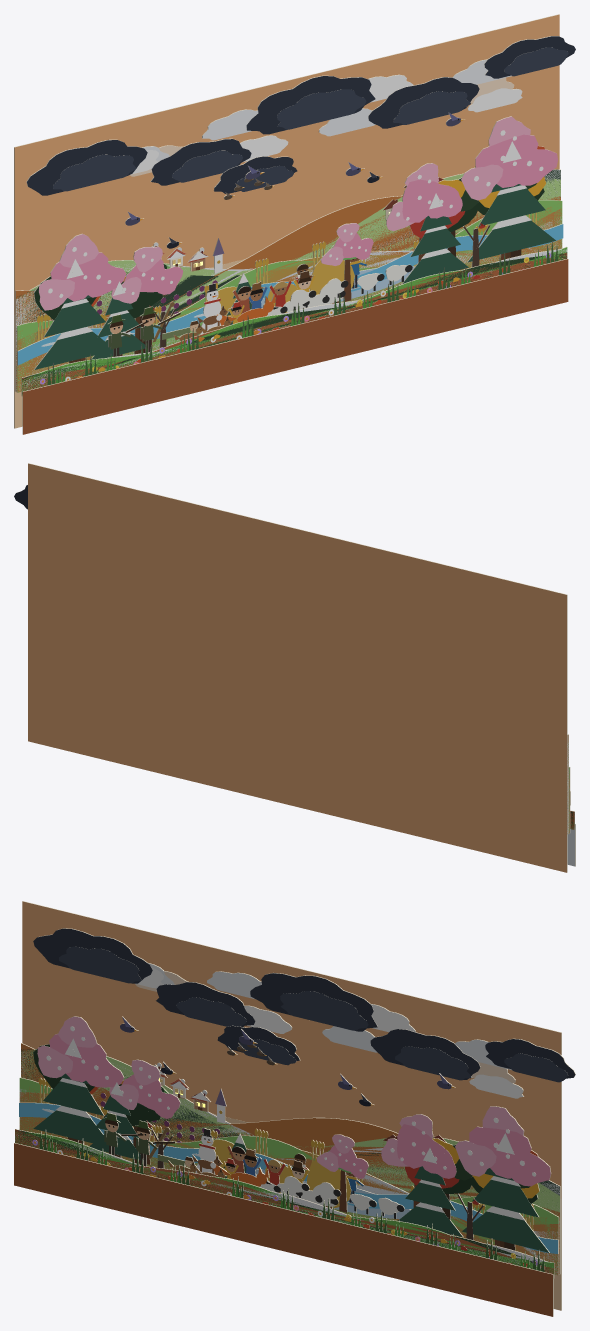
The model's file is backdrops.glb.
3 renders of one model, top to bottom at view 1: azimuth 30°, elevation 25°; view 2: azimuth 150°, elevation 25°; view 3: azimuth 330°, elevation 25°, orthographic.
Visible parts, largest first — view 1: au_static, wi_static, sp_static, su_static, su_storm2, su_storm0, su_storm3, su_storm1, su_storm4, su_storm5, sp_bloom8, sp_bloom12 (+22 smaller); view 2: au_static; view 3: au_static, wi_static, sp_static, su_storm2, su_storm0, su_storm3, su_static, su_storm1, su_storm4, su_storm5, sp_bloom8, sp_bloom12 (+22 smaller).
Boxes of the visible parts, <box> form: au_static: <box>14,14,568,434</box>; wi_static: <box>15,141,567,391</box>; sp_static: <box>15,173,567,394</box>; su_static: <box>15,169,567,393</box>; su_storm2: <box>246,75,375,134</box>; su_storm0: <box>26,139,147,195</box>; su_storm3: <box>368,77,479,128</box>; su_storm1: <box>150,138,251,185</box>; su_storm4: <box>484,36,575,78</box>; su_storm5: <box>213,156,297,193</box>; sp_bloom8: <box>402,179,450,222</box>; sp_bloom12: <box>475,134,538,187</box>; au_static: <box>28,463,575,872</box>; au_static: <box>14,901,561,1316</box>; wi_static: <box>15,1038,560,1274</box>; sp_static: <box>15,1049,560,1278</box>; su_storm2: <box>250,972,377,1031</box>; su_storm0: <box>33,928,152,983</box>; su_storm3: <box>370,1029,480,1080</box>; su_static: <box>15,1049,560,1276</box>; su_storm1: <box>156,982,255,1026</box>; su_storm4: <box>485,1038,575,1082</box>; su_storm5: <box>217,1025,300,1065</box>; sp_bloom8: <box>397,1124,444,1168</box>; sp_bloom12: <box>469,1126,531,1178</box>.
Size of the model in its own units: 13.98 by 6.7 by 0.3924.
